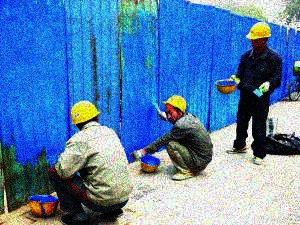helmet: (68, 100, 101, 129), (244, 20, 271, 52), (163, 95, 187, 122)
